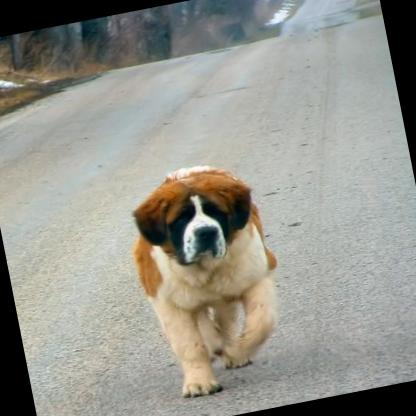Saint_Bernard: (114, 151, 300, 406)
